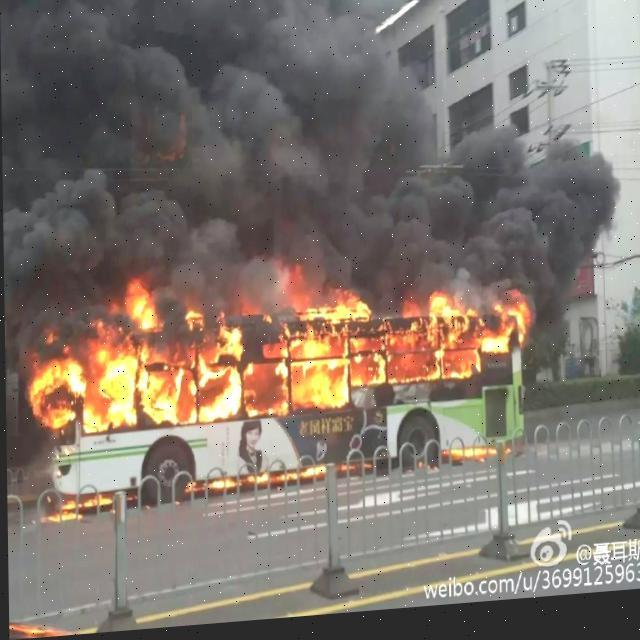Fire: (26, 250, 531, 450)
